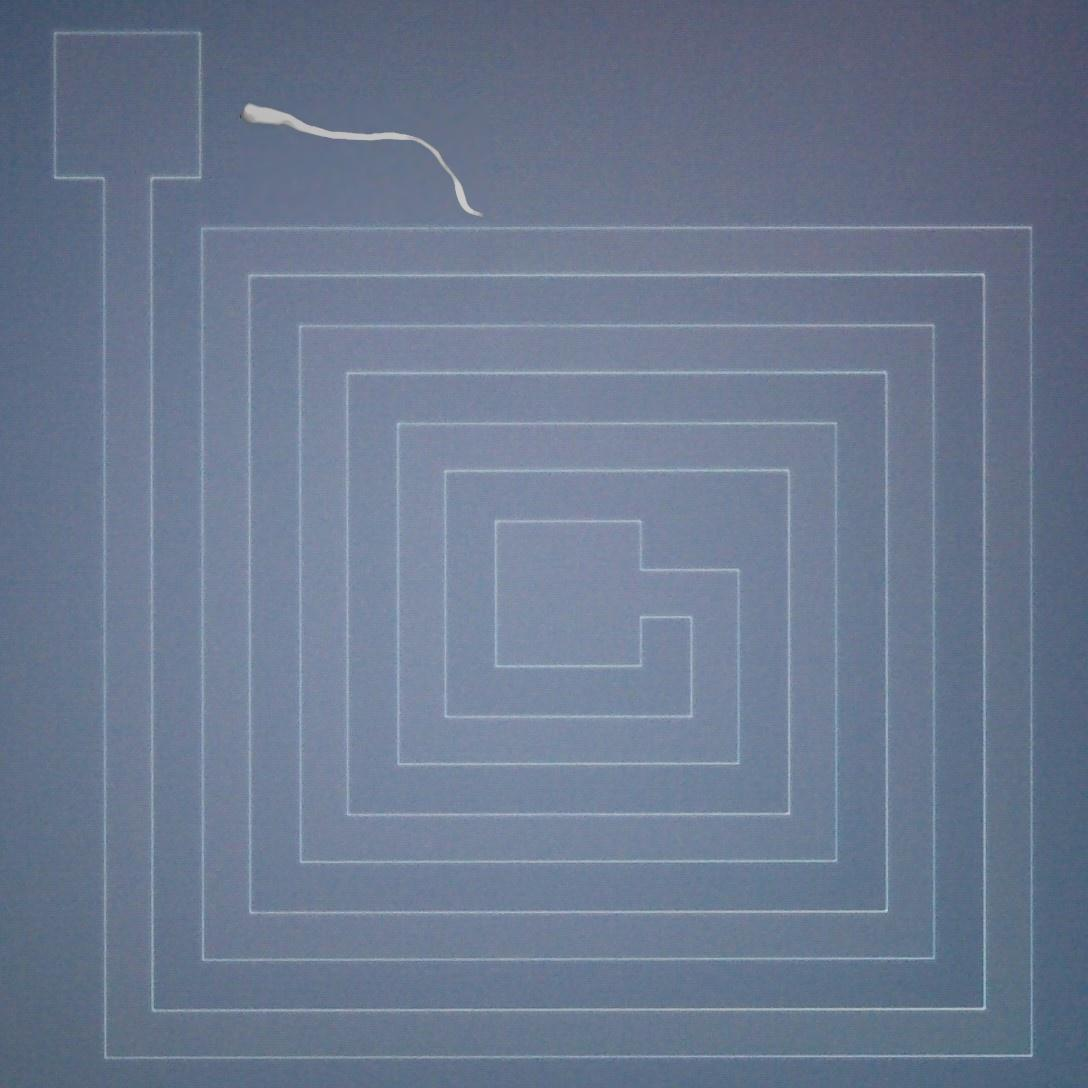foreign: (241, 97, 484, 225)
